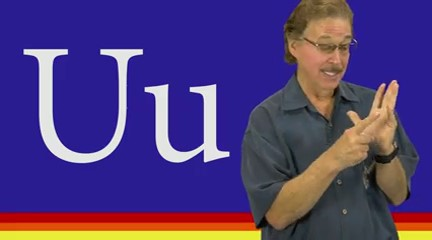U: (324, 76, 403, 167)
